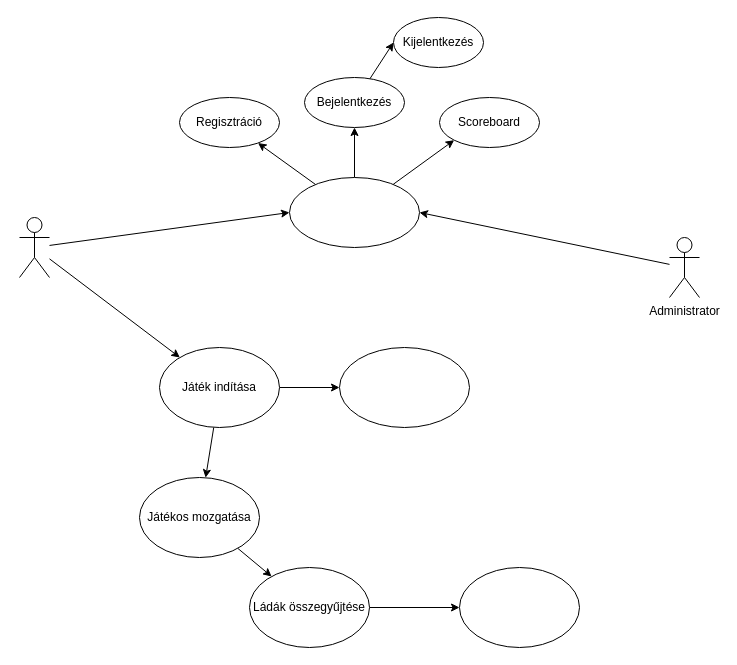
The diagram is 737 pixels wide and 665 high, and some of its shapes have lost their labels. Here are the shapes that lost their labels. From the top down, the box of each, then its label:
(288, 176, 420, 248): Adatbázisműveletek
(18, 216, 50, 278): Player
(338, 346, 470, 428): Ellenségek támadása
(458, 566, 580, 648): Pizza készítése
